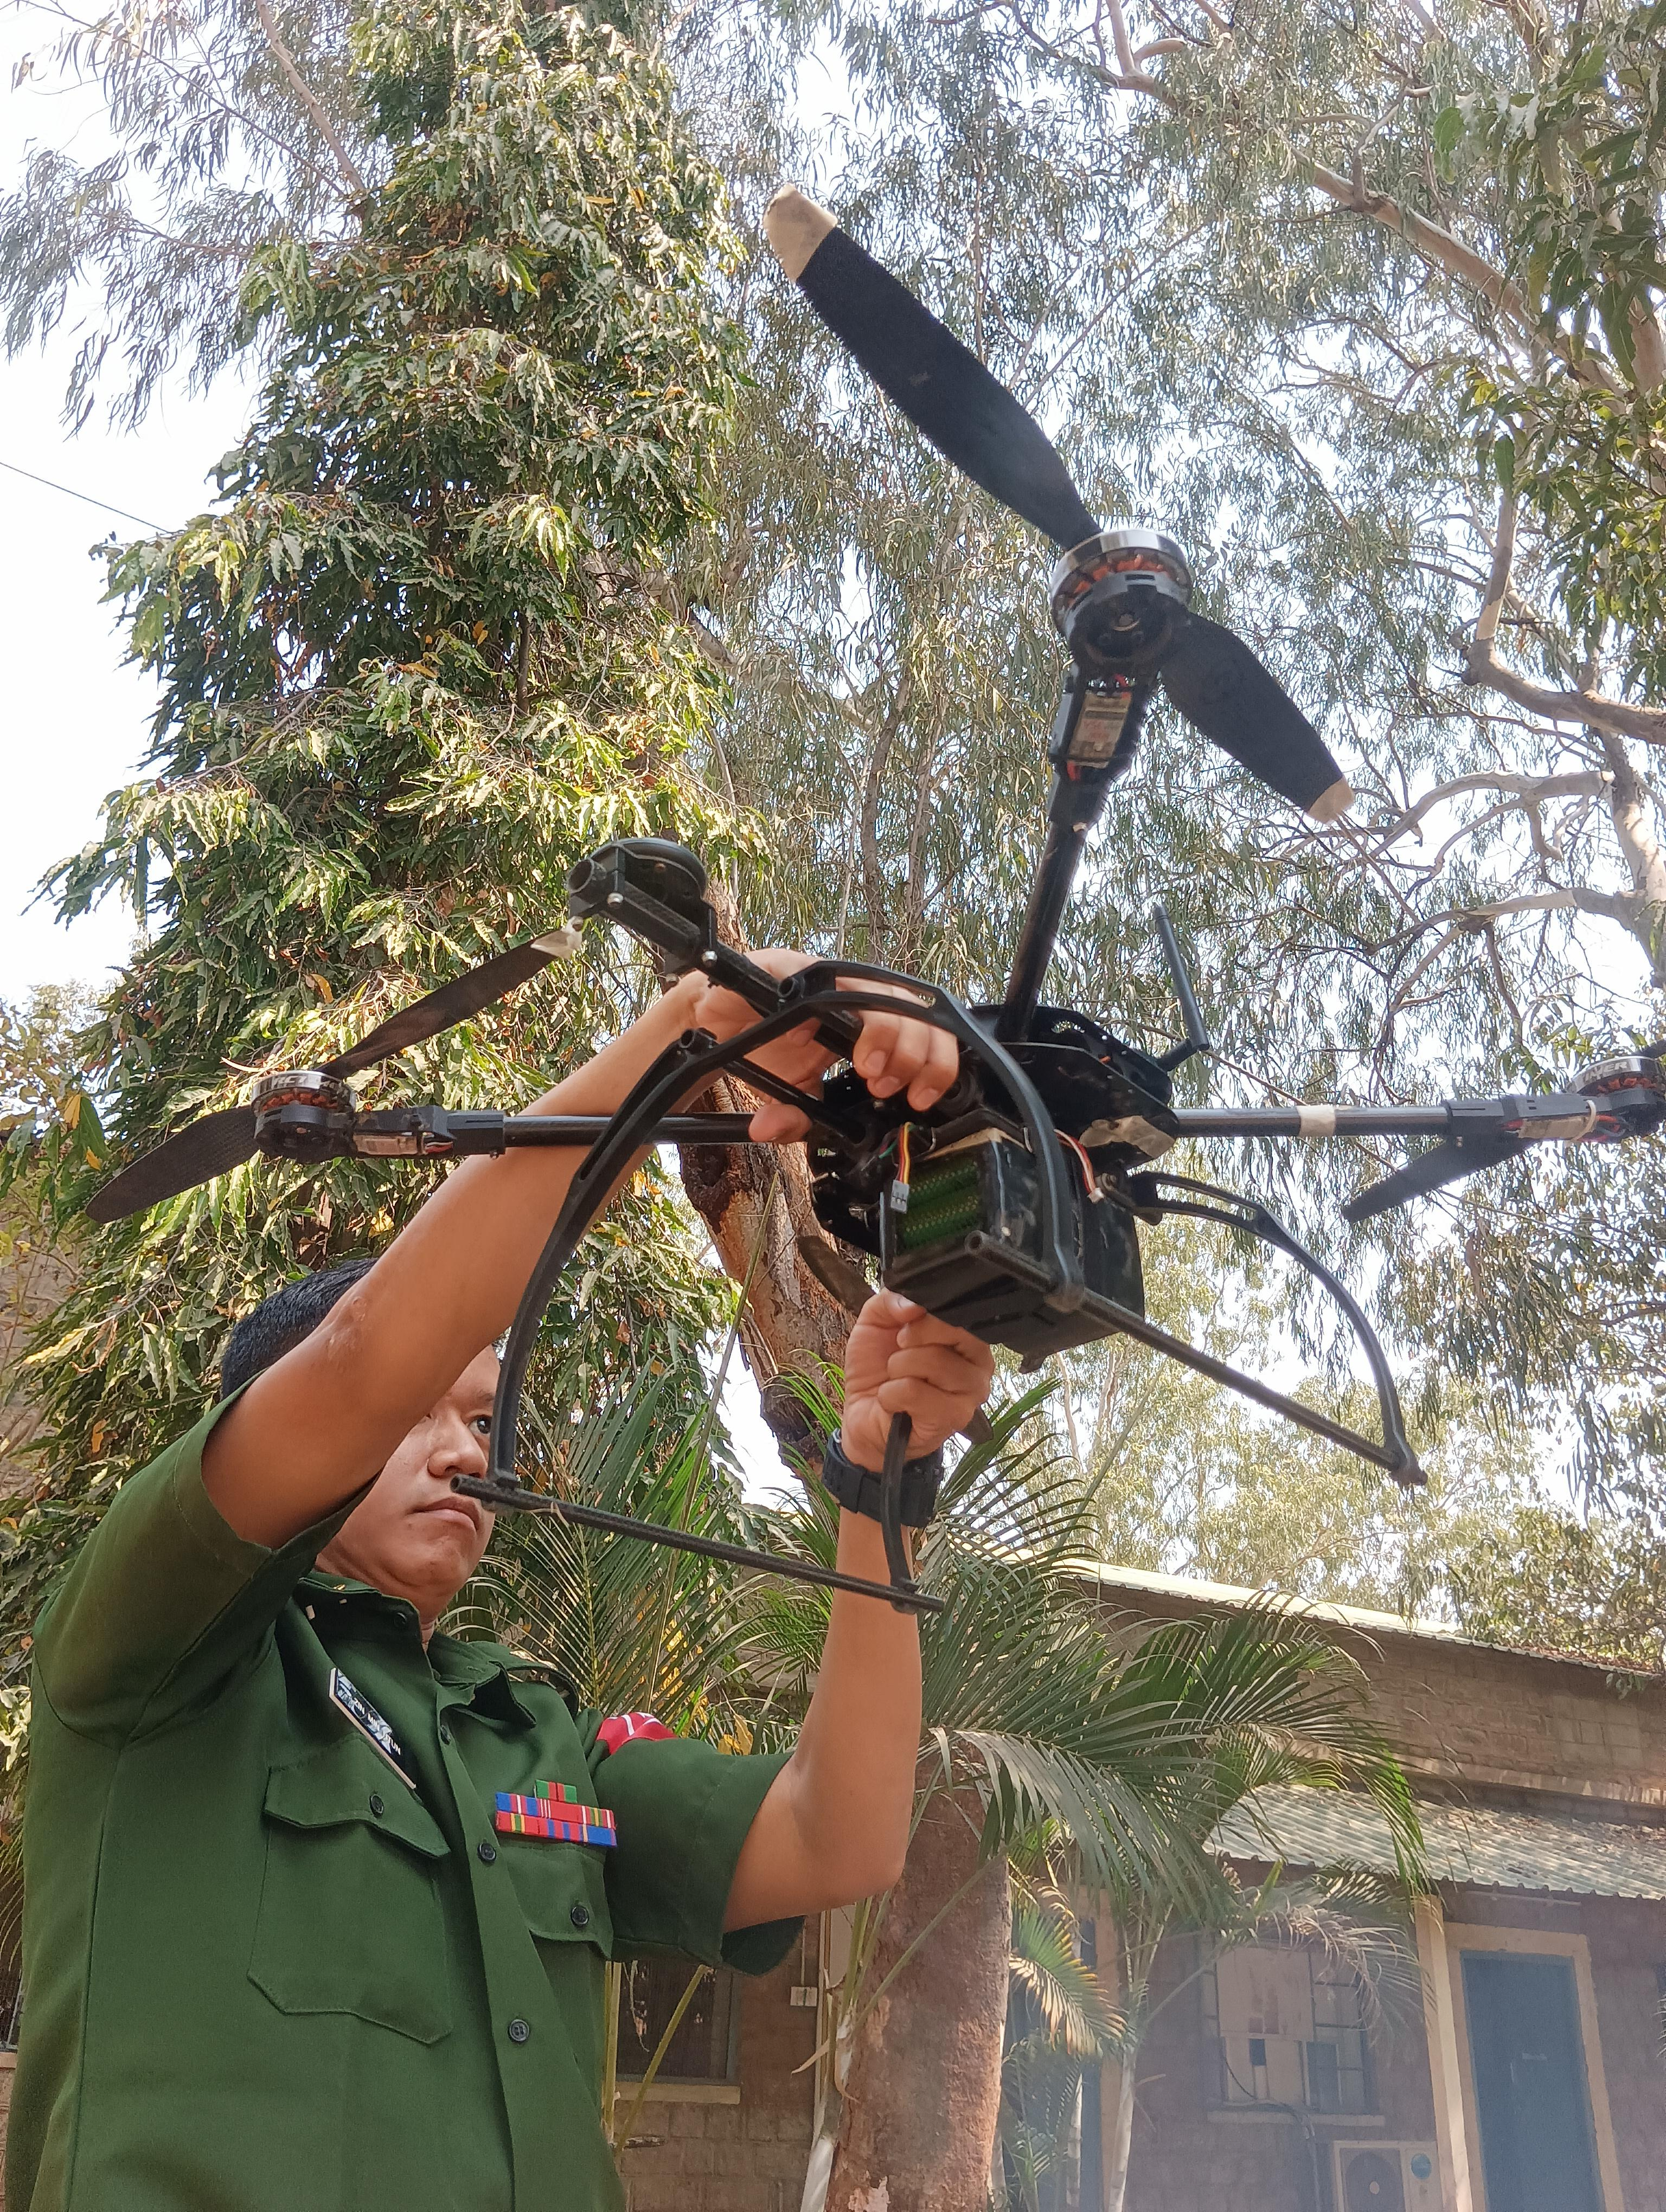drone: (87, 147, 1666, 1603)
